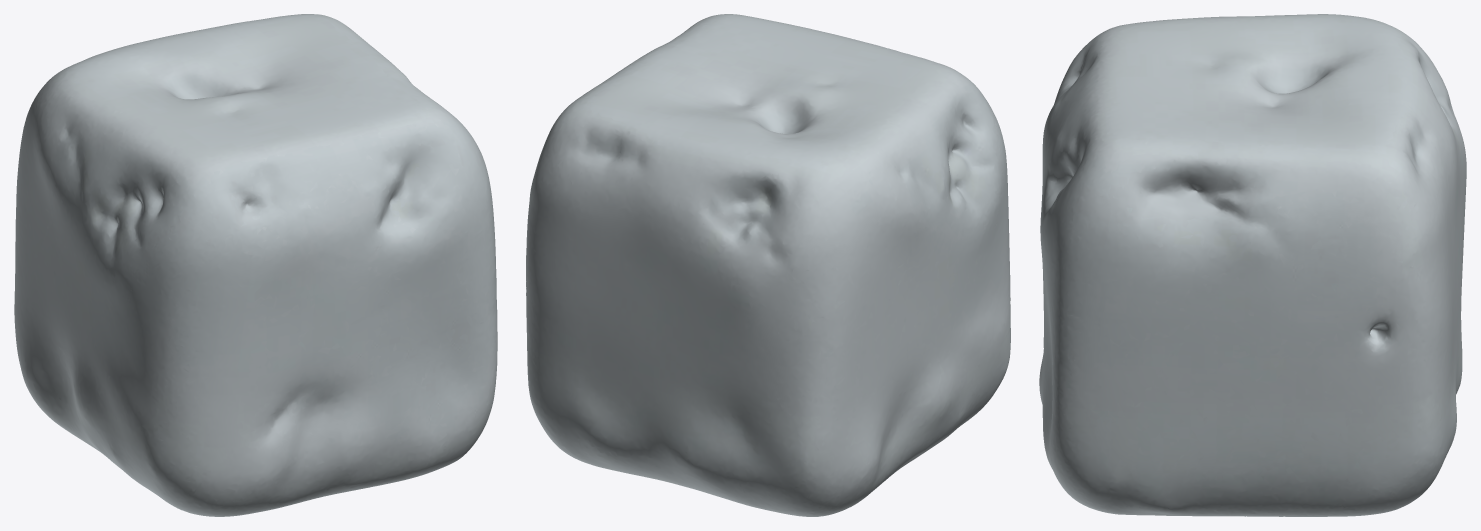
The model's file is release_bar.glb.
3 renders of one model, left to right at view 1: azimuth 30°, elevation 25°; view 2: azimuth 150°, elevation 25°; view 3: azimuth 270°, elevation 25°, orthographic. The views are drawn at different scales.
Visible parts, largest first — view 1: geometry_0; view 2: geometry_0; view 3: geometry_0.
Boxes of the visible parts, x1,y1,x2,y2 form: geometry_0: (14,14,497,516); geometry_0: (526,14,1010,516); geometry_0: (1039,14,1466,516).
Size of the model in its own units: 0.9938 by 0.9711 by 1.
1 material, 1 textured.
